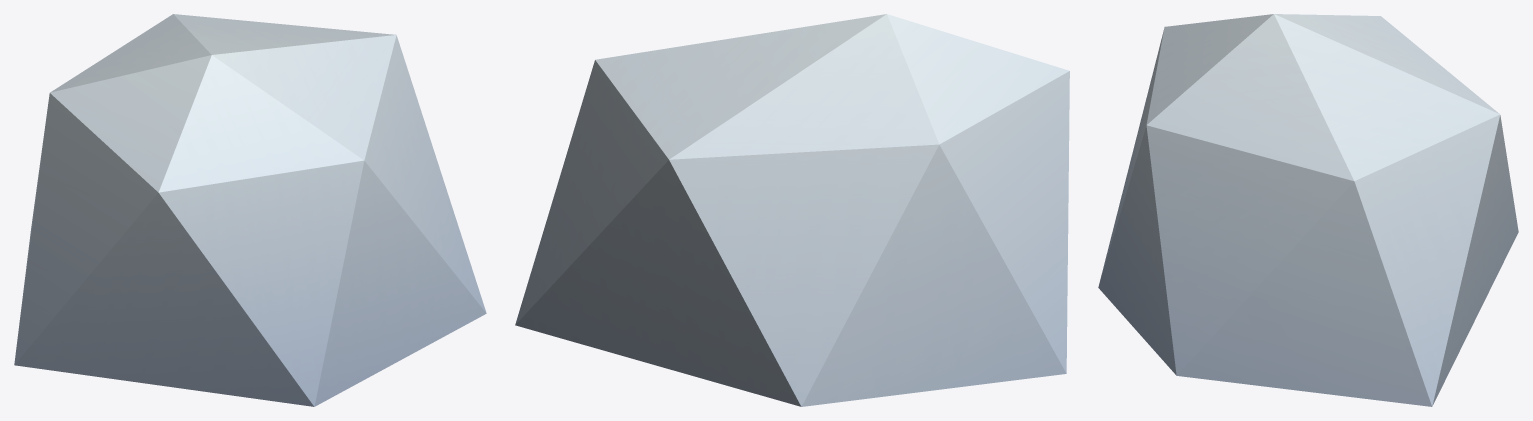
The model's file is Big Rock.fbx.
3 renders of one model, left to right at view 1: azimuth 30°, elevation 25°; view 2: azimuth 150°, elevation 25°; view 3: azimuth 270°, elevation 25°, orthographic. The views are drawn at different scales.
Parts seen in each view (by area): view 1: Icosphere.032; view 2: Icosphere.032; view 3: Icosphere.032.
Boxes of the visible parts, bbox=[...] form: Icosphere.032: bbox=[14, 14, 486, 406]; Icosphere.032: bbox=[515, 14, 1069, 406]; Icosphere.032: bbox=[1098, 14, 1518, 406].
Bounding box in the file's own units: 931 × 584 × 814.
